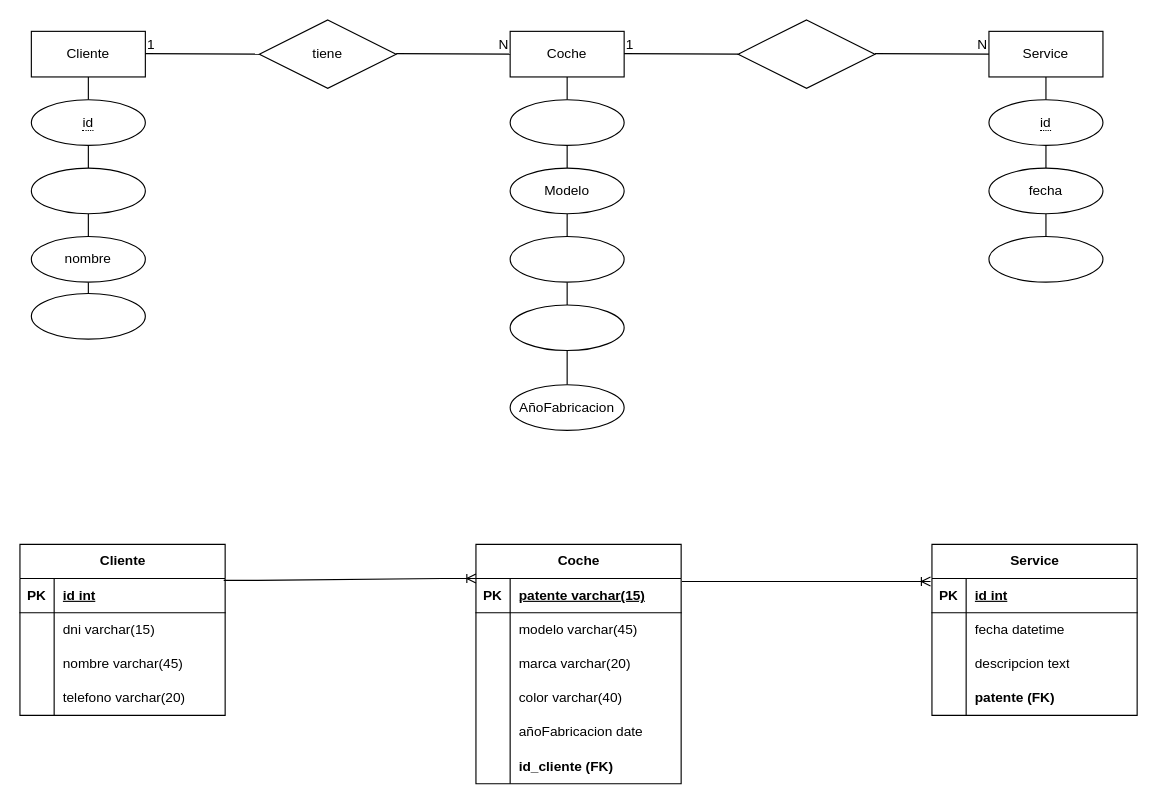
Some shapes in this 1157 by 804 pixel diagram are drawn without their labels. The shapes that lost their labels are listed below. From the top down, each one's centre as x and y in pixels, then its label:
the point at 806,53: realizo
the point at 566,122: Patente
the point at 87,190: dni
the point at 566,258: Marca
the point at 1045,258: descripcion
the point at 87,315: telefono
the point at 566,327: Color
